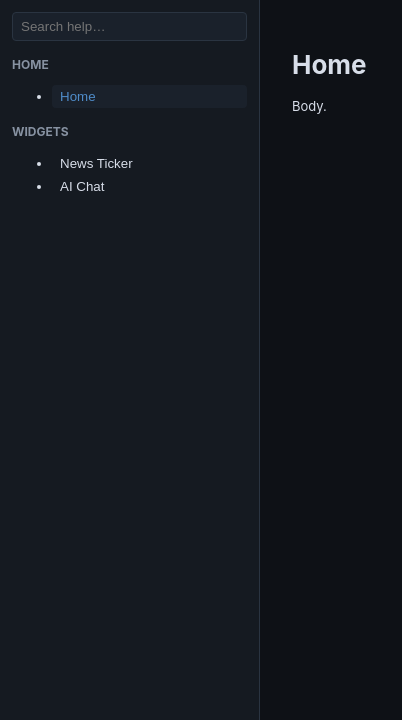
Scenario: HelpApp › navigates when a sidebar item is clicked
The image size is (402, 720).
Click the button "AI Chat": (150,186) [52,175,247,198]
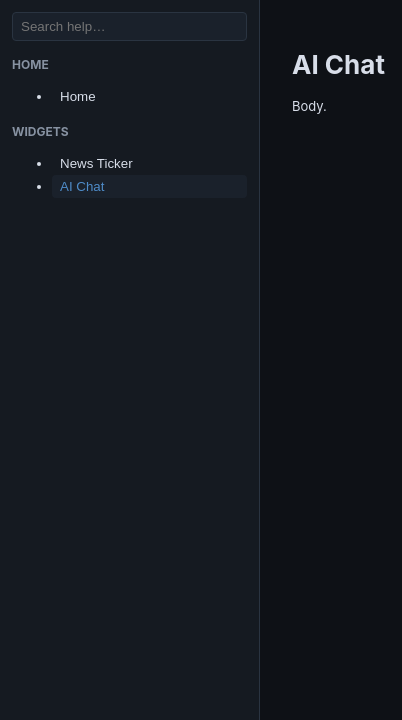
Check: the heading "AI Chat" is shown, box [292,49,385,80]
